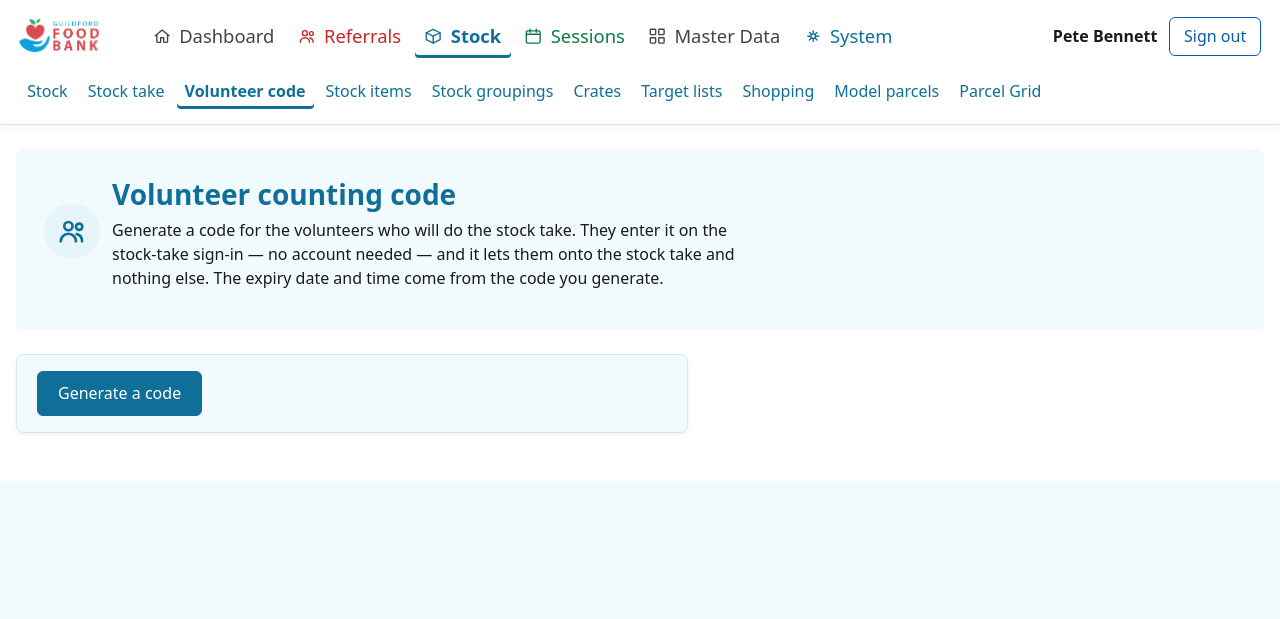
the volunteer code screen › shows the access-denied notice and no code when the mint is forbidden
Step 1. Click the button "Generate a code" → (120, 393), box [37,371,202,416]
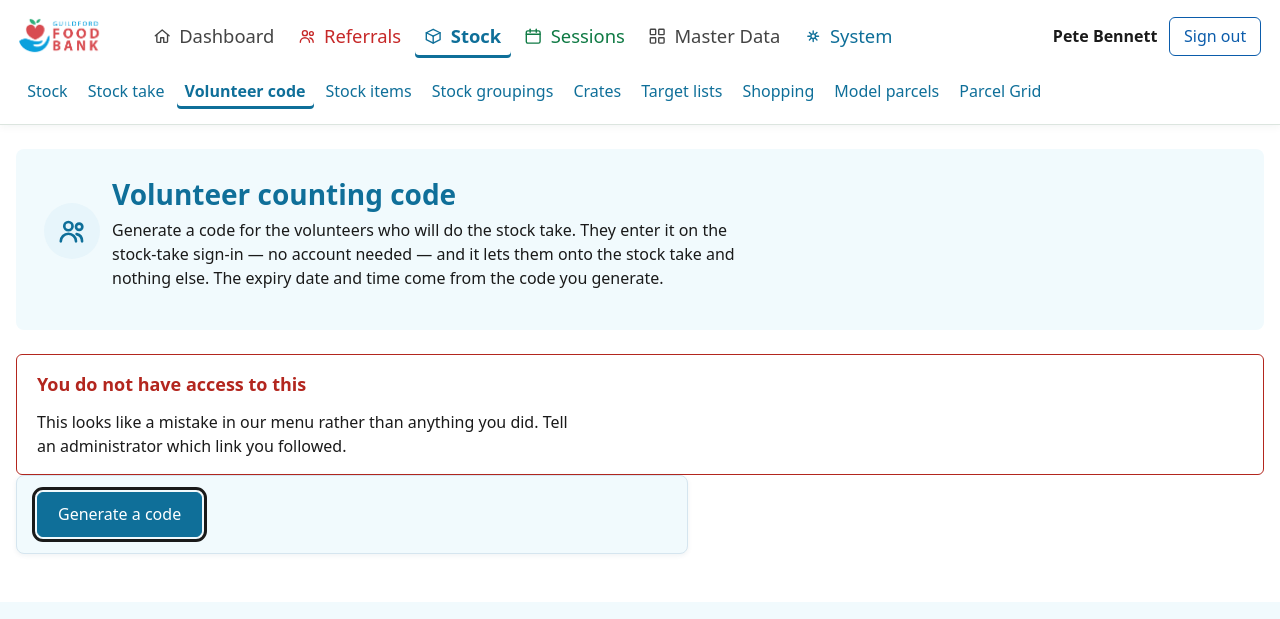
Now the message shows "You do not have access to this", box [37,372,306,396]
